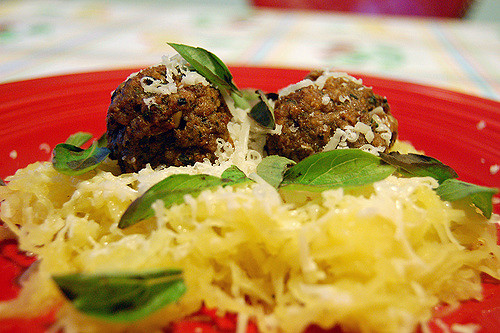meatballs: (104, 57, 237, 155), (279, 82, 376, 151)
